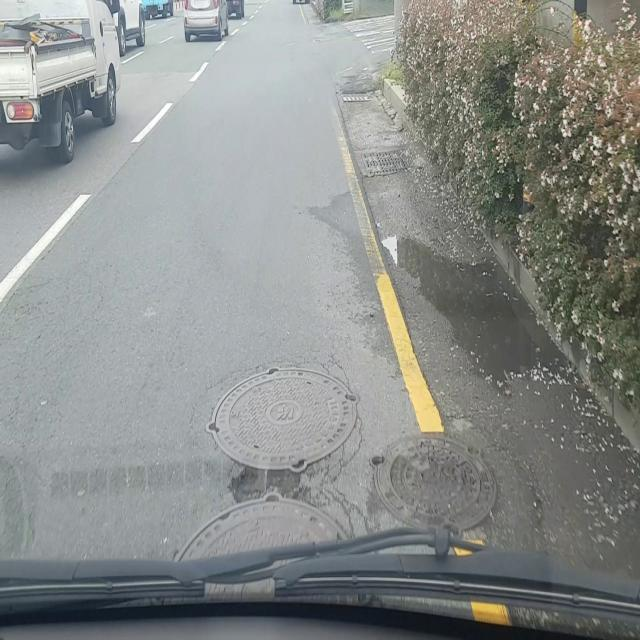Pothole: (201, 362, 362, 492)
